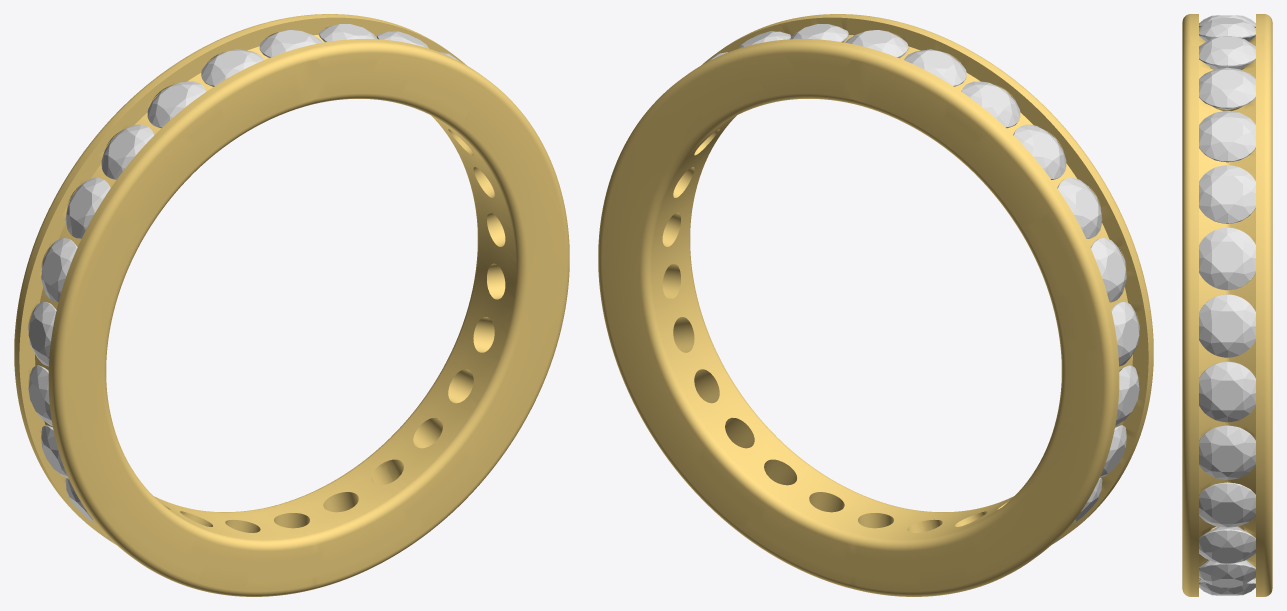
The model's file is OliviaYGeternity_blender.glb.
The picture shows the model from 3 angles, left to right: view 1: azimuth 30°, elevation 25°; view 2: azimuth 150°, elevation 25°; view 3: azimuth 270°, elevation 25°; orthographic projection. The views are drawn at different scales.
Visible parts, largest first — view 1: Olivia YG for 3d model, Olivia dia for 3d model.022, Olivia dia for 3d model.021, Olivia dia for 3d model.023, Olivia dia for 3d model.020, Olivia dia for 3d model.024, Olivia dia for 3d model.019, Olivia dia for 3d model.025, Olivia dia for 3d model.018, Olivia dia for 3d model; view 2: Olivia YG for 3d model, Olivia dia for 3d model.022, Olivia dia for 3d model.021, Olivia dia for 3d model.023, Olivia dia for 3d model.020, Olivia dia for 3d model.024, Olivia dia for 3d model.019, Olivia dia for 3d model.025, Olivia dia for 3d model.018, Olivia dia for 3d model; view 3: Olivia YG for 3d model, Olivia dia for 3d model.004, Olivia dia for 3d model.003, Olivia dia for 3d model.005, Olivia dia for 3d model.002, Olivia dia for 3d model.006, Olivia dia for 3d model.001, Olivia dia for 3d model.007, Olivia dia for 3d model, Olivia dia for 3d model.008, Olivia dia for 3d model.025, Olivia dia for 3d model.009 (+3 smaller).
Part boxes in pixels (x1,y1,x2,y2): Olivia YG for 3d model: (14,14,569,596); Olivia dia for 3d model.022: (101,124,154,179); Olivia dia for 3d model.021: (65,177,110,238); Olivia dia for 3d model.023: (147,81,206,128); Olivia dia for 3d model.020: (41,238,77,302); Olivia dia for 3d model.024: (201,49,263,86); Olivia dia for 3d model.019: (28,302,56,366); Olivia dia for 3d model.025: (259,30,322,57); Olivia dia for 3d model.018: (28,365,52,425); Olivia dia for 3d model: (319,24,377,42); Olivia YG for 3d model: (598,14,1153,596); Olivia dia for 3d model.022: (1013,124,1066,179); Olivia dia for 3d model.021: (1057,177,1102,238); Olivia dia for 3d model.023: (961,81,1020,128); Olivia dia for 3d model.020: (1090,238,1126,302); Olivia dia for 3d model.024: (904,49,966,86); Olivia dia for 3d model.019: (1111,302,1139,366); Olivia dia for 3d model.025: (845,30,908,57); Olivia dia for 3d model.018: (1115,365,1139,425); Olivia dia for 3d model: (790,24,848,42); Olivia YG for 3d model: (1182,14,1272,596); Olivia dia for 3d model.004: (1199,294,1255,357); Olivia dia for 3d model.003: (1199,227,1255,290); Olivia dia for 3d model.005: (1199,361,1255,422); Olivia dia for 3d model.002: (1199,165,1255,223); Olivia dia for 3d model.006: (1199,425,1255,480); Olivia dia for 3d model.001: (1199,111,1255,162); Olivia dia for 3d model.007: (1199,482,1255,527); Olivia dia for 3d model: (1199,67,1255,110); Olivia dia for 3d model.008: (1199,526,1255,564); Olivia dia for 3d model.025: (1199,36,1255,69); Olivia dia for 3d model.009: (1199,560,1255,587).
Size of the model in its own units: 20.71 by 20.71 by 3.2.
